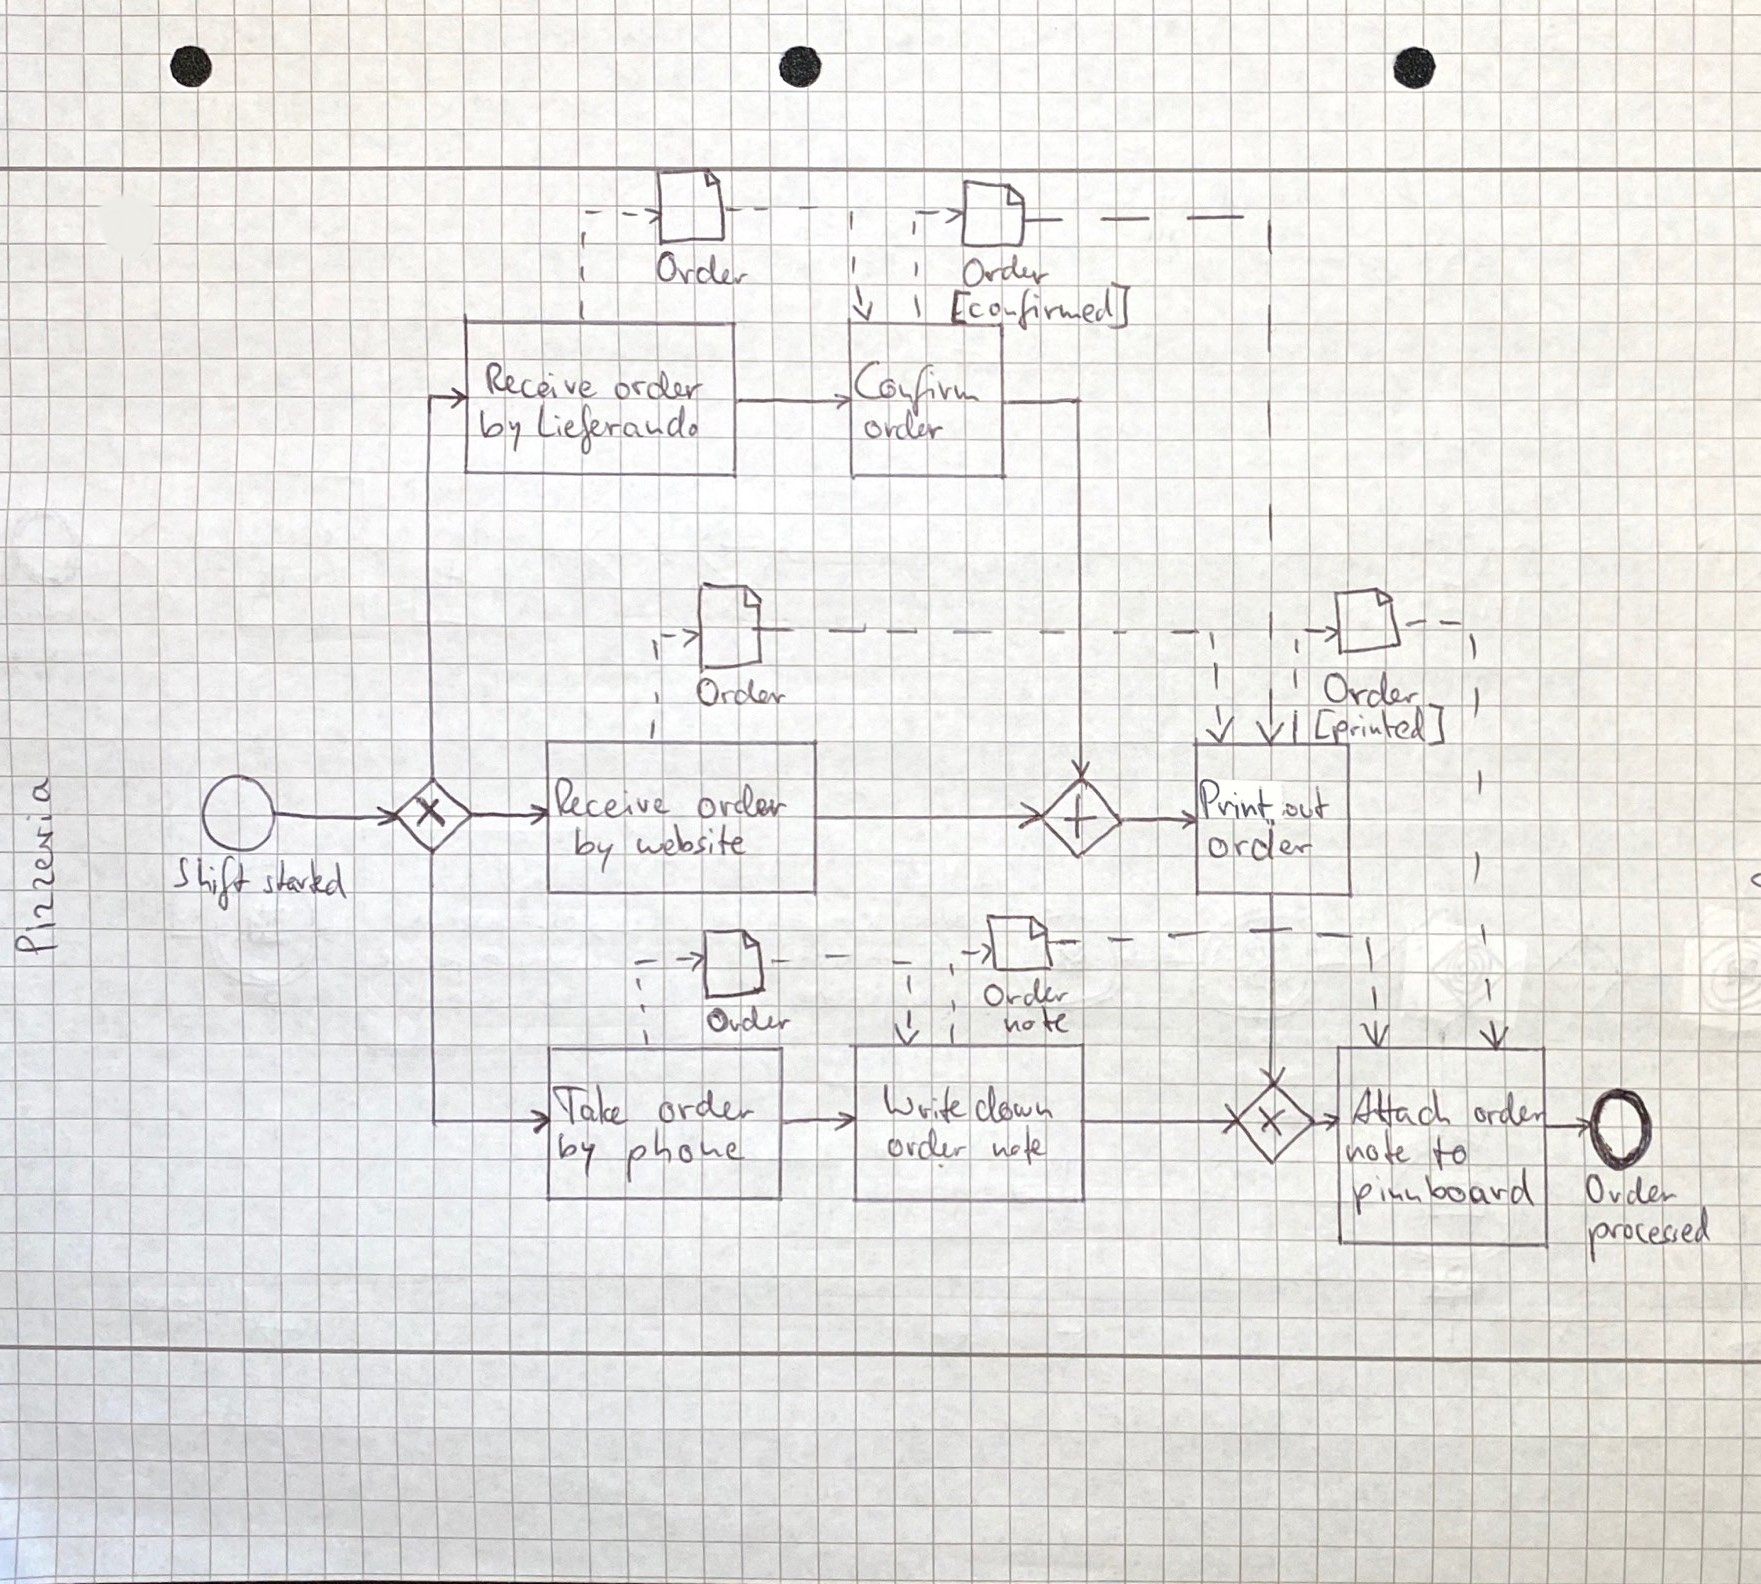Attach: (1347, 1084, 1455, 1131)
Confirm: (850, 356, 984, 414)
Lieferando: (530, 401, 705, 456)
Order: (1321, 668, 1425, 711), (651, 249, 751, 291), (1581, 1171, 1683, 1209), (958, 252, 1053, 291), (978, 974, 1072, 1011), (703, 1000, 796, 1037), (692, 676, 792, 709)
Pizzeria: (11, 774, 61, 960)
Print: (1195, 777, 1276, 821)
Receive: (550, 774, 673, 823), (482, 359, 605, 405)
Shift: (171, 853, 255, 914)
Take: (550, 1081, 634, 1128)
Write: (880, 1079, 971, 1127)
[confirmed]: (939, 284, 1140, 330)
[printed]: (1305, 705, 1451, 746)
by: (570, 824, 621, 875), (475, 407, 527, 453), (553, 1128, 604, 1174)
down: (972, 1086, 1058, 1128)
note: (1341, 1128, 1416, 1168), (989, 1122, 1053, 1168), (1000, 1005, 1073, 1040)
order: (653, 1087, 760, 1130), (1202, 826, 1318, 862), (694, 780, 790, 823), (1469, 1087, 1552, 1131), (611, 367, 711, 404), (884, 1127, 974, 1167), (859, 411, 949, 446)
out: (1279, 784, 1333, 826)
phone: (622, 1127, 751, 1183)
pinnboard: (1347, 1167, 1541, 1216)
processed: (1584, 1206, 1717, 1263)
started: (258, 856, 355, 902)
to: (1428, 1133, 1477, 1174)
website: (631, 821, 751, 859)
